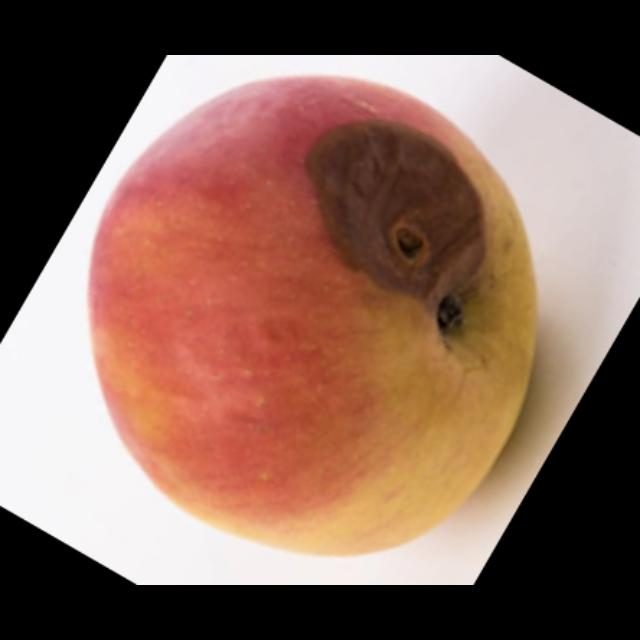Apel Tidak Segar: (32, 78, 534, 552)
